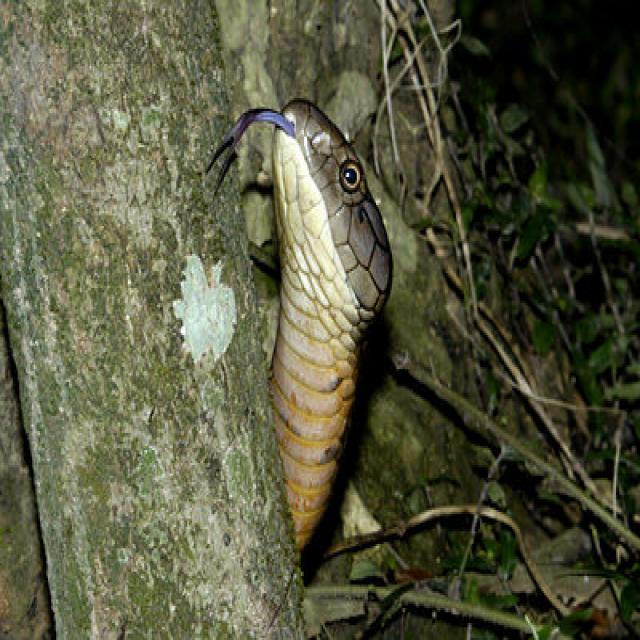Snake: (204, 94, 394, 561)
